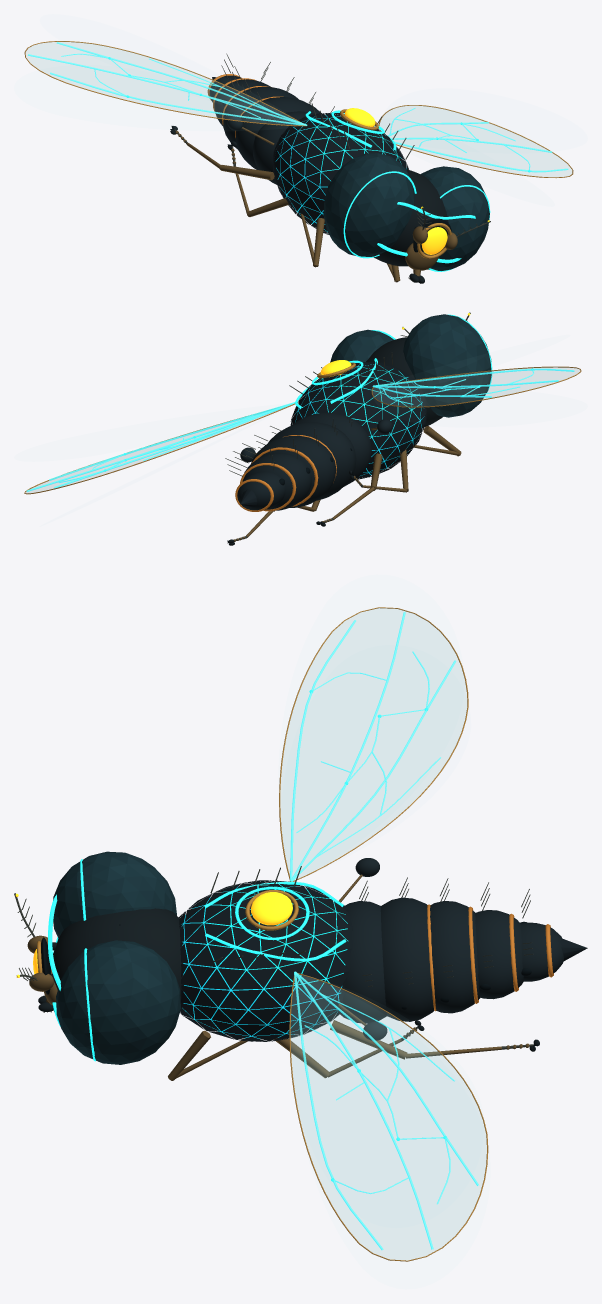
File: mirror-gap-v5.2.0.glb
The picture shows the model from 3 angles, top to bottom: view 1: azimuth 30°, elevation 25°; view 2: azimuth 150°, elevation 25°; view 3: azimuth 270°, elevation 25°; orthographic projection. The views are drawn at different scales.
Visible parts, largest first — view 1: Thin_wing_membrane (×2), Separate_head_Left_compound_eye_batch, Faceted_obsidian_thorax, Horizontal_segmented_abdomen_Abdominal_segment_1_batch, Left_single_membrane_wing_Cyan_neural_wing_vein_1_batch, Head_capsule, Costal_wing_gold_edge (×2), Thorax_inner_cyan_fissures, Right_single_membrane_wing_Cyan_neural_wing_vein_1_batch, Separate_head_Cyan_compound_eye_rim_batch, Facial_amber_core, Thorax_pitch_and_bank_Dorsal_core_cyan_fissure_batch (+4 smaller); view 2: Horizontal_segmented_abdomen_Abdominal_segment_1_batch, Separate_head_Left_compound_eye_batch, Faceted_obsidian_thorax, Thin_wing_membrane (×2), Right_single_membrane_wing_Cyan_neural_wing_vein_1_batch, Thorax_inner_cyan_fissures, Left_single_membrane_wing_Cyan_neural_wing_vein_1_batch, Costal_wing_gold_edge (×2), Horizontal_segmented_abdomen_Amber_tergite_seam_1_batch, Head_capsule, Thorax_pitch_and_bank_Dorsal_core_cyan_fissure_batch, Horizontal_segmented_abdomen_Abdominal_sensillum_batch (+2 smaller); view 3: Thin_wing_membrane (×2), Faceted_obsidian_thorax, Horizontal_segmented_abdomen_Abdominal_segment_1_batch, Separate_head_Left_compound_eye_batch, Head_capsule, Thorax_inner_cyan_fissures, Right_single_membrane_wing_Cyan_neural_wing_vein_1_batch, Left_single_membrane_wing_Cyan_neural_wing_vein_1_batch, Costal_wing_gold_edge (×2), Thorax_pitch_and_bank_Dorsal_core_cyan_fissure_batch, Horizontal_segmented_abdomen_Amber_tergite_seam_1_batch, Dorsal_amber_core (+1 smaller).
Boxes of the visible parts, bbox=[...] form: Thin_wing_membrane (×2): bbox=[26, 42, 571, 176]; Separate_head_Left_compound_eye_batch: bbox=[323, 153, 489, 270]; Faceted_obsidian_thorax: bbox=[273, 113, 408, 234]; Horizontal_segmented_abdomen_Abdominal_segment_1_batch: bbox=[209, 75, 320, 185]; Left_single_membrane_wing_Cyan_neural_wing_vein_1_batch: bbox=[28, 42, 307, 125]; Head_capsule: bbox=[374, 169, 448, 266]; Costal_wing_gold_edge (×2): bbox=[24, 41, 573, 178]; Thorax_inner_cyan_fissures: bbox=[275, 115, 406, 231]; Right_single_membrane_wing_Cyan_neural_wing_vein_1_batch: bbox=[387, 108, 568, 172]; Separate_head_Cyan_compound_eye_rim_batch: bbox=[343, 171, 490, 271]; Facial_amber_core: bbox=[421, 227, 447, 254]; Thorax_pitch_and_bank_Dorsal_core_cyan_fissure_batch: bbox=[305, 110, 396, 151]; Horizontal_segmented_abdomen_Abdominal_segment_1_batch: bbox=[237, 412, 371, 510]; Separate_head_Left_compound_eye_batch: bbox=[330, 314, 491, 417]; Faceted_obsidian_thorax: bbox=[290, 362, 426, 479]; Thin_wing_membrane (×2): bbox=[26, 367, 579, 492]; Right_single_membrane_wing_Cyan_neural_wing_vein_1_batch: bbox=[26, 402, 294, 491]; Thorax_inner_cyan_fissures: bbox=[295, 364, 424, 475]; Left_single_membrane_wing_Cyan_neural_wing_vein_1_batch: bbox=[372, 368, 574, 404]; Costal_wing_gold_edge (×2): bbox=[24, 366, 581, 494]; Horizontal_segmented_abdomen_Amber_tergite_seam_1_batch: bbox=[235, 435, 336, 511]; Head_capsule: bbox=[366, 337, 443, 426]; Thorax_pitch_and_bank_Dorsal_core_cyan_fissure_batch: bbox=[295, 358, 377, 408]; Horizontal_segmented_abdomen_Abdominal_sensillum_batch: bbox=[225, 409, 352, 476]; Thin_wing_membrane (×2): bbox=[281, 608, 486, 1260]; Faceted_obsidian_thorax: bbox=[178, 880, 352, 1041]; Horizontal_segmented_abdomen_Abdominal_segment_1_batch: bbox=[338, 897, 563, 1023]; Separate_head_Left_compound_eye_batch: bbox=[53, 851, 180, 1064]; Head_capsule: bbox=[53, 908, 183, 1007]; Thorax_inner_cyan_fissures: bbox=[181, 883, 348, 1038]; Right_single_membrane_wing_Cyan_neural_wing_vein_1_batch: bbox=[294, 971, 478, 1250]; Left_single_membrane_wing_Cyan_neural_wing_vein_1_batch: bbox=[290, 611, 456, 881]; Costal_wing_gold_edge (×2): bbox=[279, 607, 488, 1261]; Thorax_pitch_and_bank_Dorsal_core_cyan_fissure_batch: bbox=[204, 881, 346, 961]; Horizontal_segmented_abdomen_Amber_tergite_seam_1_batch: bbox=[427, 904, 553, 1011]; Dorsal_amber_core: bbox=[251, 892, 292, 925].
Bounding box in the file's own units: 2.19 × 1.12 × 1.49.
